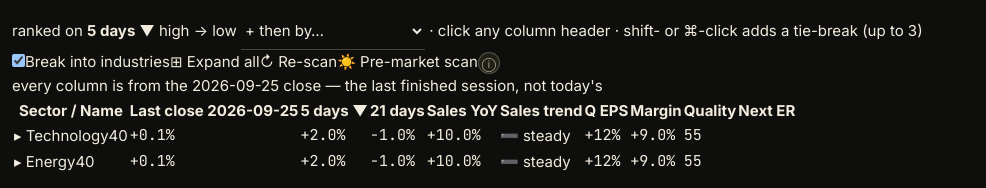
Test: the "then by" control, ✕ clear and ☀️ › ✕ clear goes back to 5 days ▼ with no then_by; NEGATIVE: hidden when already default
Expected: the button "▸ Technology" is shown, [14,124,109,148]
Click the button "Q EPS" at {"x": 606, "y": 111}, box [584,99,628,122]
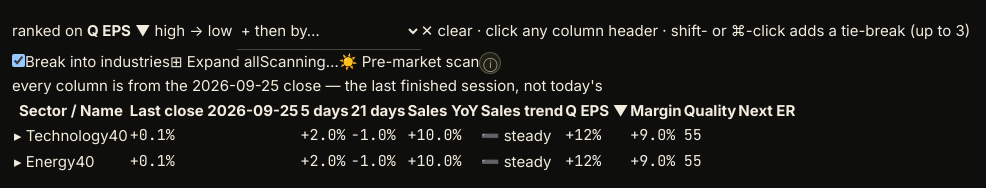
Click the button with test id "hs-sort-clear" at {"x": 447, "y": 31}, box [421,19,473,42]
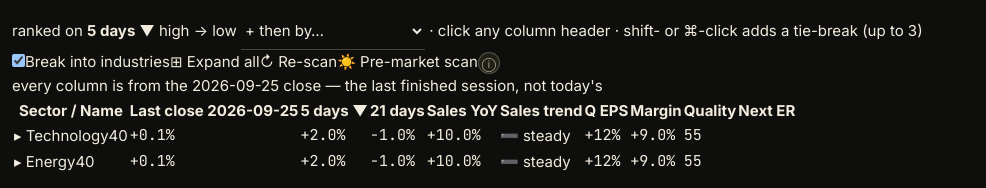
Now the button with test id "hs-sort-clear" is gone
